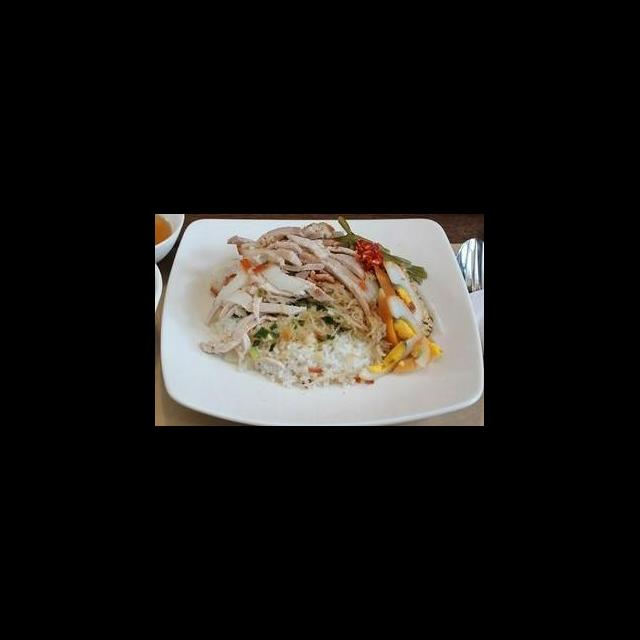bi: (278, 279, 388, 351)
com: (248, 331, 376, 394)
com suon bi trung: (193, 225, 464, 403)
dua chua: (332, 215, 429, 285)
suon: (197, 222, 380, 363)
trung: (372, 258, 444, 377)
